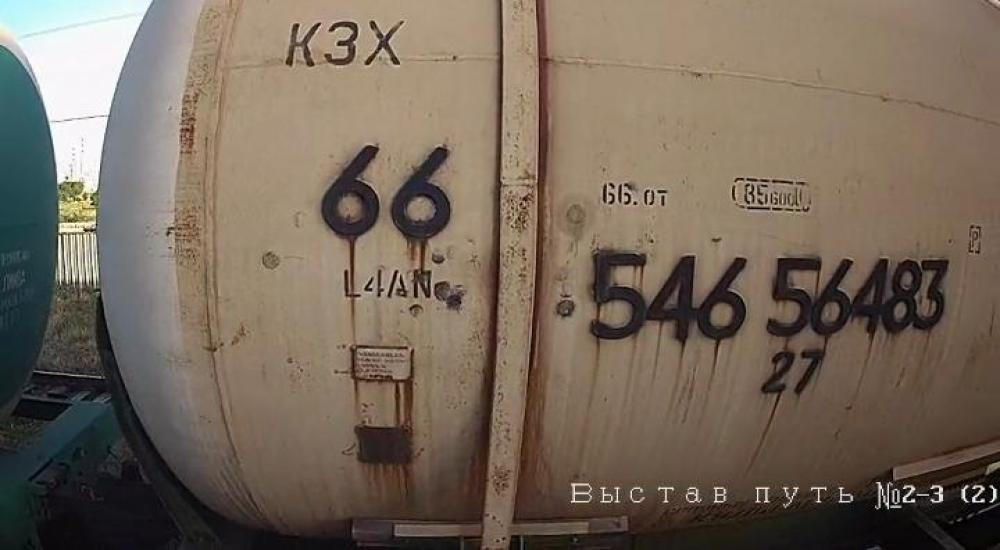Wagon-number: (585, 246, 953, 347)
